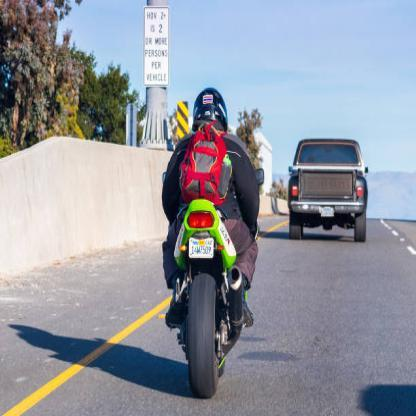Motorcycle: (163, 184, 246, 396)
